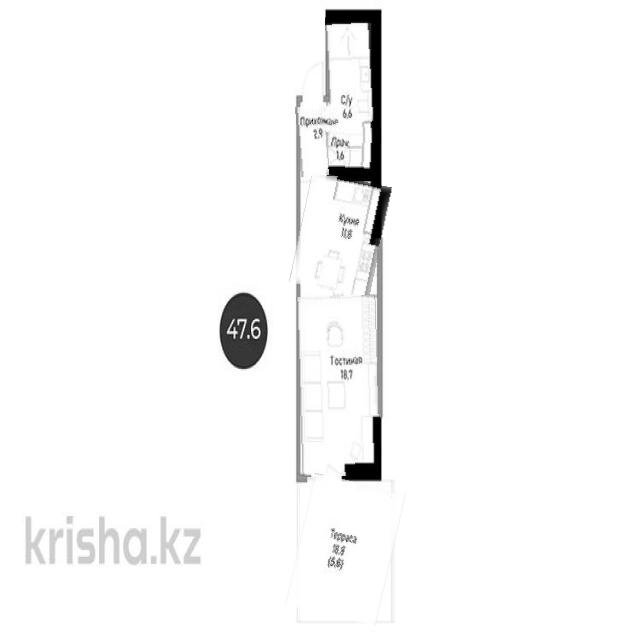balcony: (291, 478, 399, 622)
bathroom: (327, 15, 377, 122), (328, 127, 380, 178)
hallway: (297, 106, 328, 177)
kitchen: (294, 175, 388, 295)
living_room: (298, 296, 380, 476)
